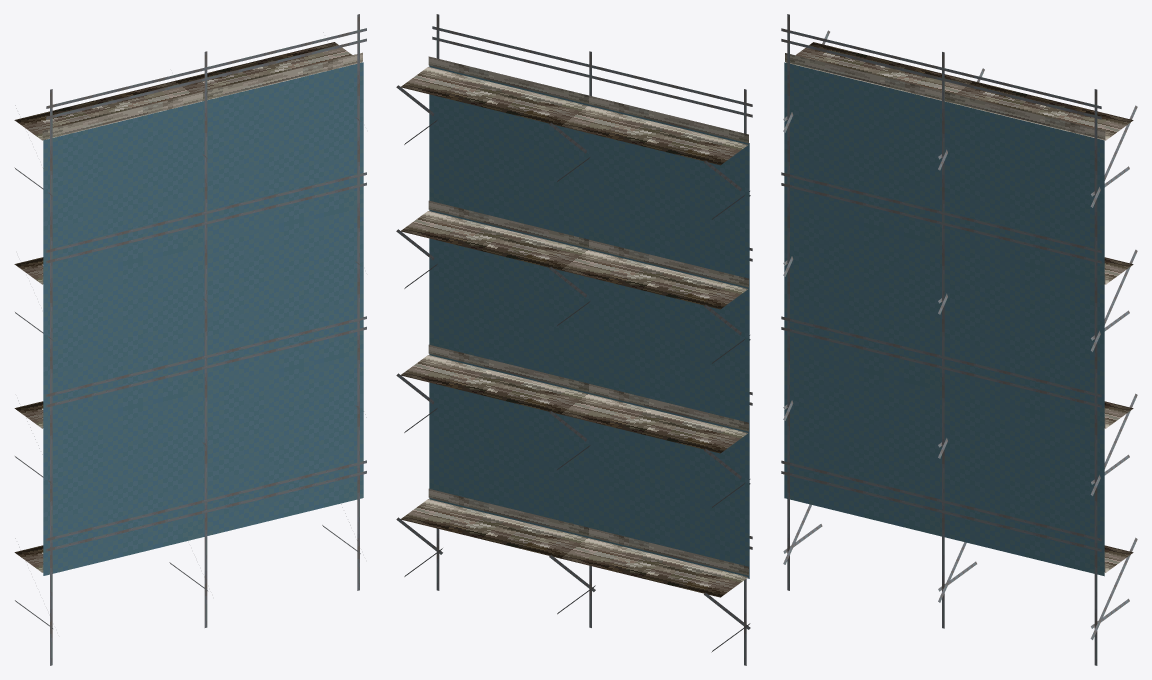
Rendered from lodscaffolding_sfx.obj.
3 renders of one model, left to right at view 1: azimuth 30°, elevation 25°; view 2: azimuth 150°, elevation 25°; view 3: azimuth 330°, elevation 25°, orthographic.
Parts seen in each view (by area): view 1: LODscaffolding_SFX; view 2: LODscaffolding_SFX; view 3: LODscaffolding_SFX.
Part boxes in pixels (left/top/right/bottom): LODscaffolding_SFX: left=14, top=14, right=366, bottom=665; LODscaffolding_SFX: left=396, top=14, right=752, bottom=665; LODscaffolding_SFX: left=781, top=14, right=1137, bottom=665.
Size of the model in its own units: 17.44 by 29.98 by 4.32.
Materials: 3 (3 with a texture image).
